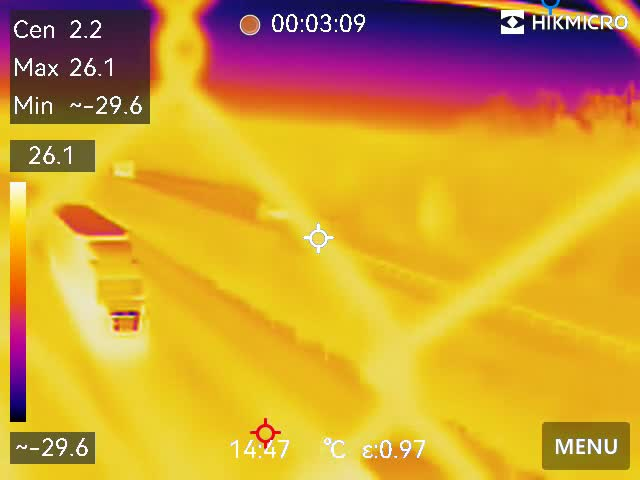heavyTruck: (36, 198, 155, 346)
